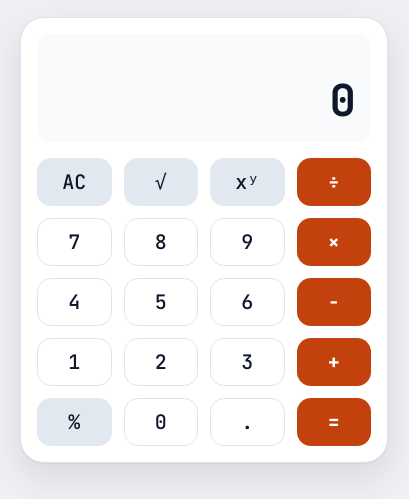
Test case: Calculator › shows the pending expression above the value
The image size is (409, 499).
Click the button "7" at [74, 242], box left=37, top=218, right=112, bottom=266
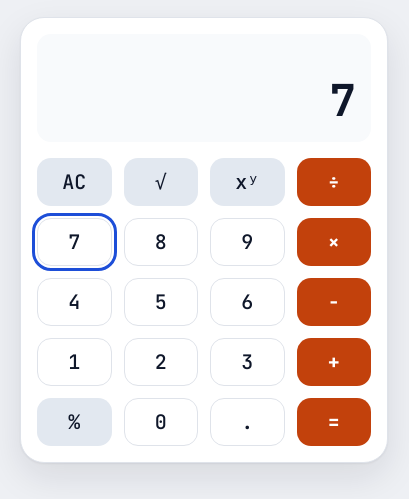
Click the button named "Multiply" at [334, 242], box left=296, top=218, right=371, bottom=266
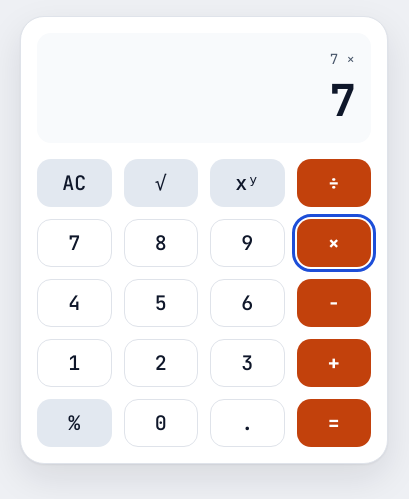
Check: the text "7 ×" is shown, box left=330, top=49, right=355, bottom=70
